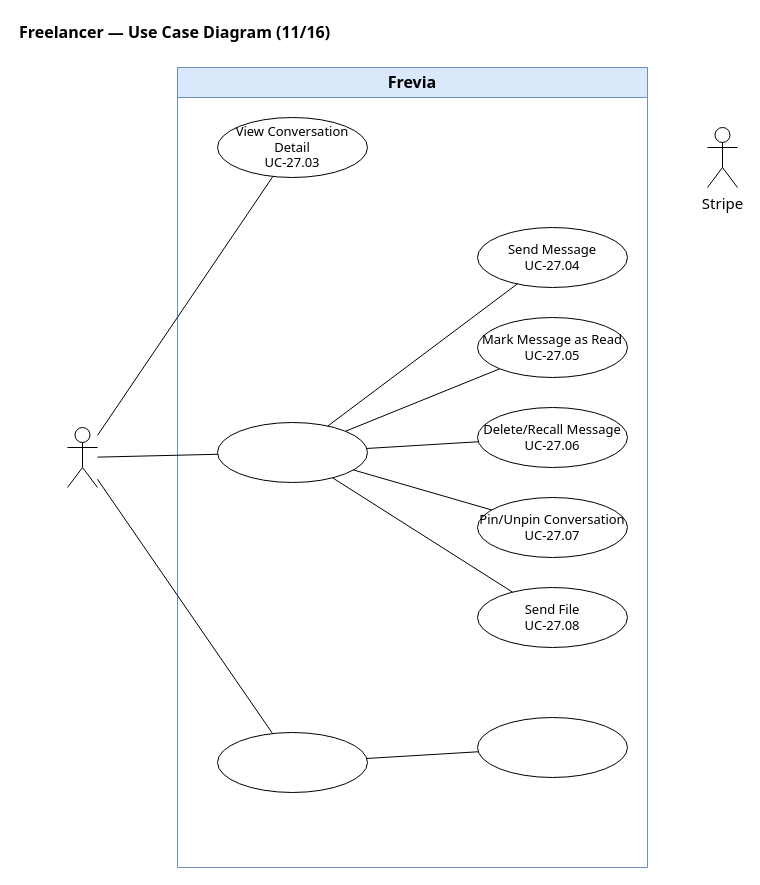
The diagram is 760 pixels wide and 885 high, and some of its shapes have lost their labels. The centre of each missing label's shape, as x and y in pixels:
"Conversation Management UC-27" goes at (292,452).
"Freelancer" goes at (82,457).
"Notification Management UC-30" goes at (292,762).
"View Notification List UC-30.01" goes at (552,747).
